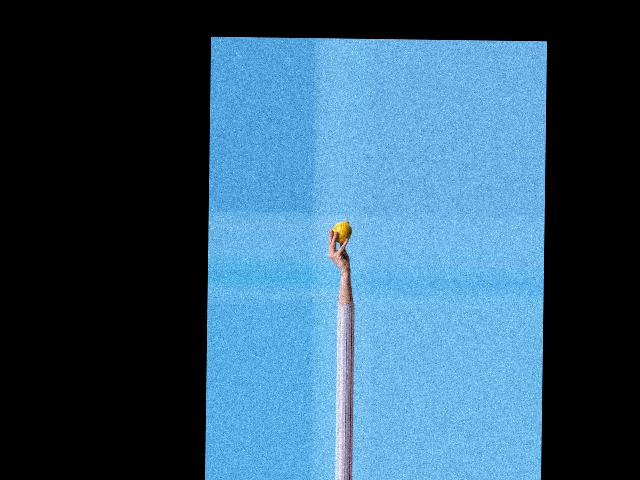lemon: (317, 218, 353, 251)
